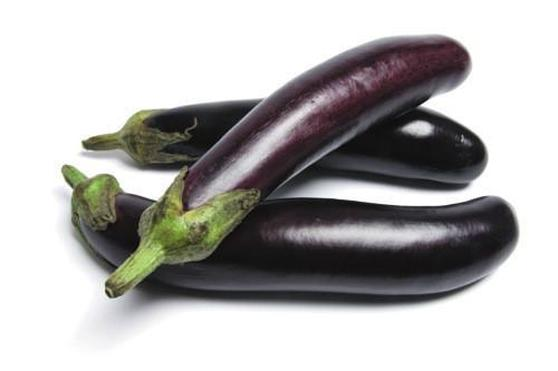eggplant: (62, 155, 518, 327)
